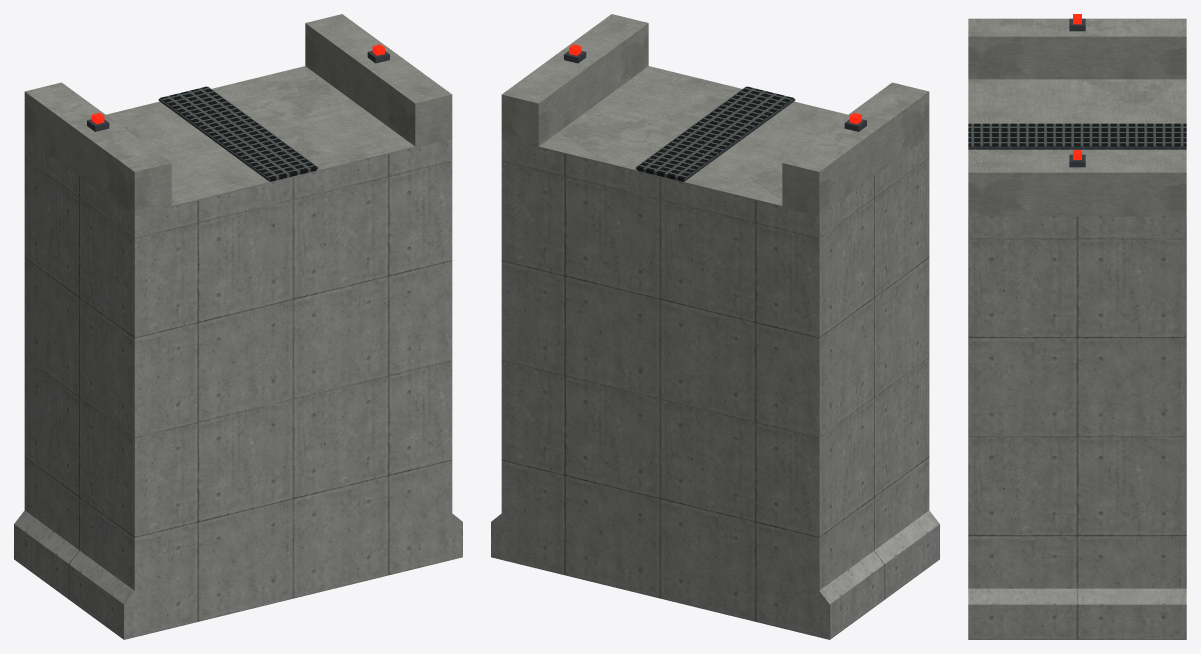
The model's file is half-bay.glb.
3 views of the same model, side by side, from view 1: azimuth 30°, elevation 25°; view 2: azimuth 150°, elevation 25°; view 3: azimuth 270°, elevation 25° (orthographic).
Visible parts, largest first — view 1: half-bay-lod0-base0, half-bay-lod0-floor0, half-bay-lod0-roof0; view 2: half-bay-lod0-base0, half-bay-lod0-floor0, half-bay-lod0-roof0; view 3: half-bay-lod0-roof0, half-bay-lod0-base0, half-bay-lod0-floor0.
Boxes of the visible parts, x1=… form: half-bay-lod0-base0: x1=14, y1=358, x2=462, y2=639; half-bay-lod0-floor0: x1=24, y1=158, x2=452, y2=437; half-bay-lod0-roof0: x1=24, y1=14, x2=452, y2=238; half-bay-lod0-base0: x1=491, y1=358, x2=939, y2=639; half-bay-lod0-floor0: x1=501, y1=158, x2=929, y2=437; half-bay-lod0-roof0: x1=501, y1=14, x2=929, y2=238; half-bay-lod0-roof0: x1=968, y1=14, x2=1186, y2=238; half-bay-lod0-base0: x1=968, y1=436, x2=1186, y2=639; half-bay-lod0-floor0: x1=968, y1=238, x2=1186, y2=436.
Size of what is drawn, in the model's own units: 32 by 43.07 by 18.
5 materials, 5 textured.
